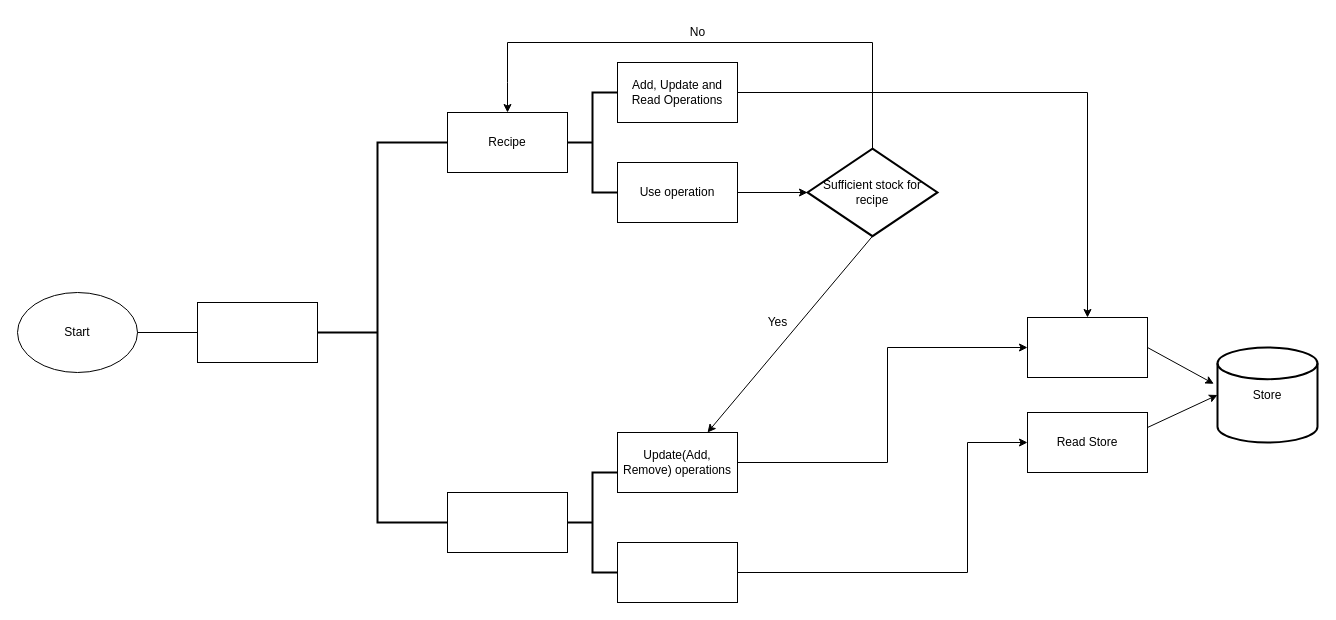
Image size: 1336x620. Some labels were removed from this diagram. Here are the shapes that lost their labels. From the top down, the box of each, then its label:
(196, 302, 318, 362): Menu
(1026, 316, 1148, 378): Update Store
(446, 492, 568, 552): Stock
(616, 542, 738, 602): Read operations
